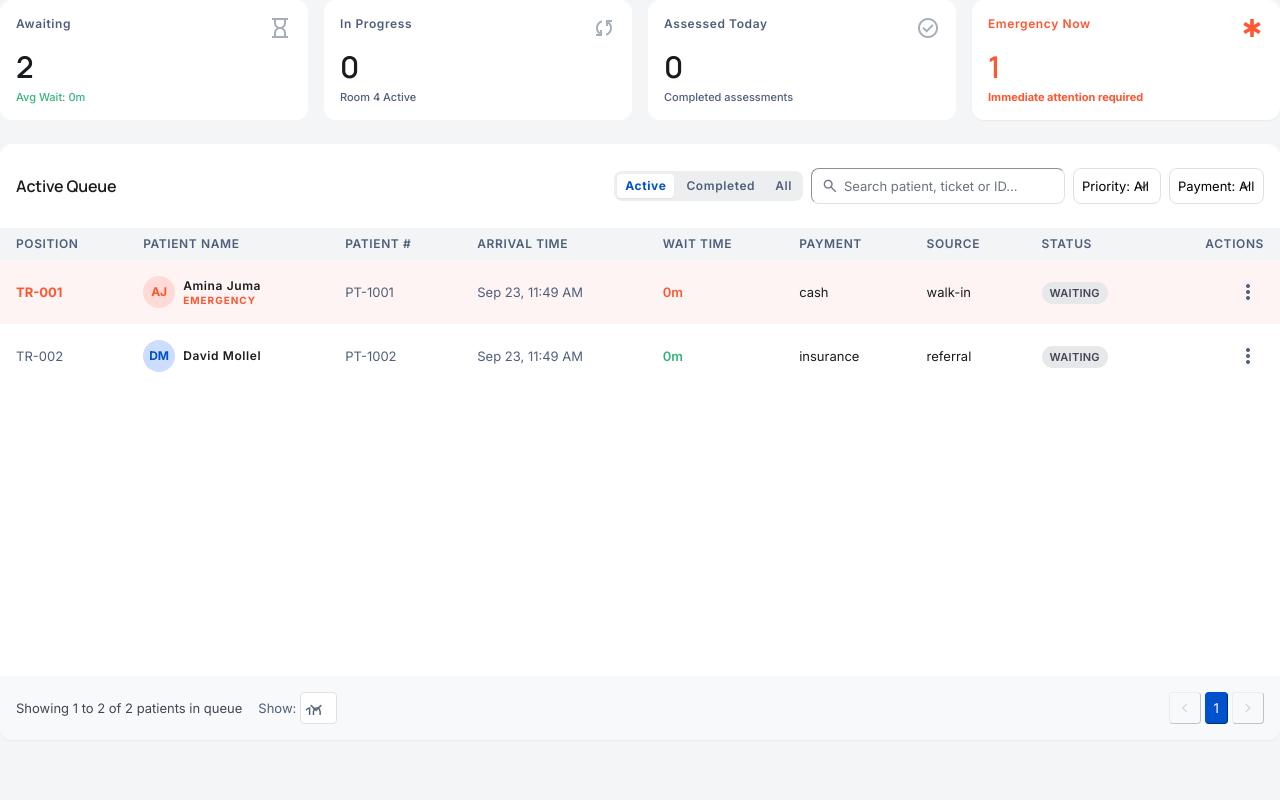
TriageQueuePage › filters queue items by search input
Expected: the text "Amina Juma" is shown, [183,278,261,294]
Type "David" into the field with placeholder "Search patient, ticket or ID..." at {"x": 938, "y": 186}, box [811,168,1065,204]
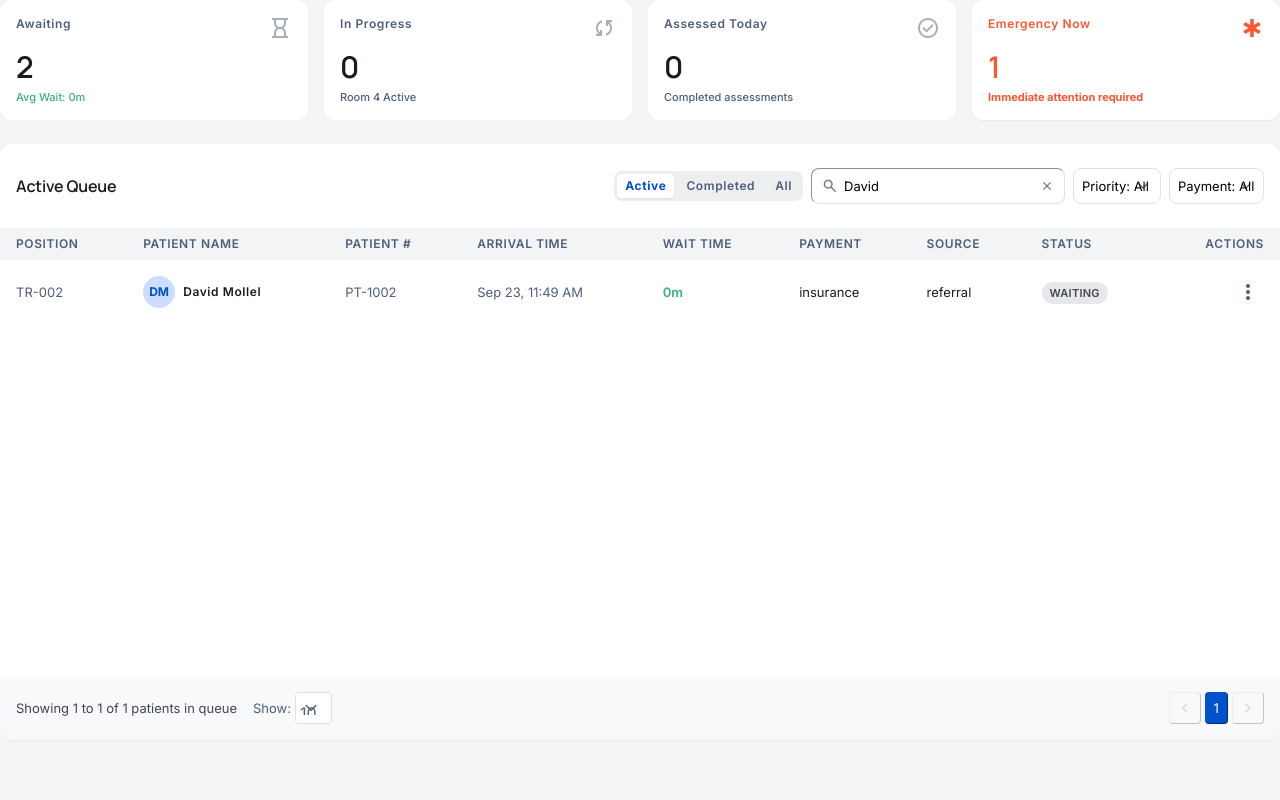
Expected: the text "David Mollel" is shown, [183,284,261,300]
Expected: the text "Amina Juma" is gone
